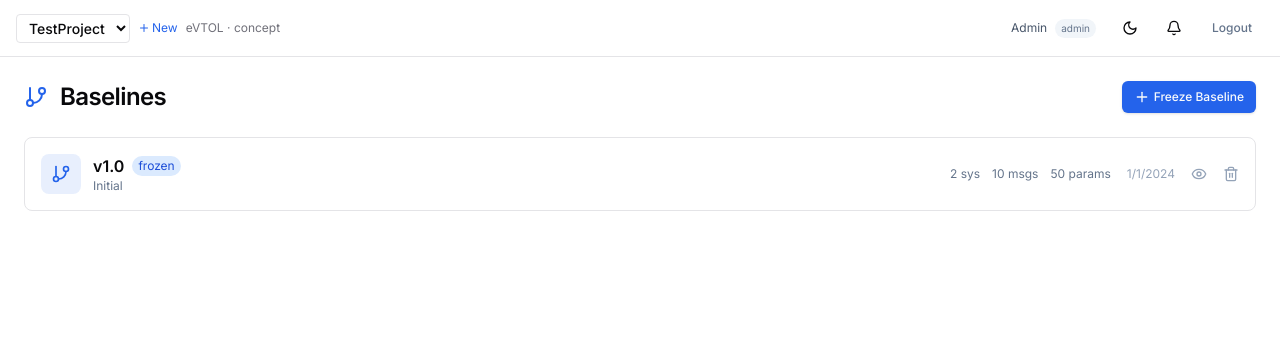
Test: Baselines Page › Freeze Baseline button toggles form
Click the button "Freeze Baseline".
click(1189, 97)  # box 1122,81 -> 1256,113
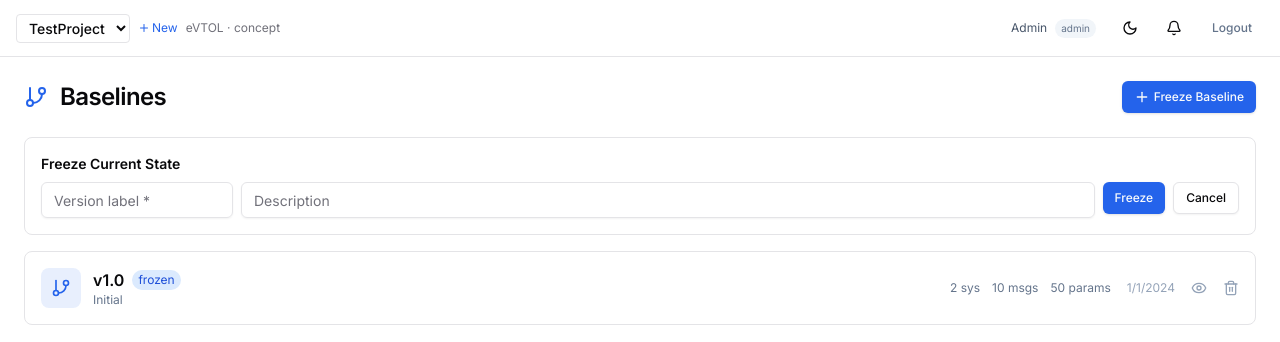
expect the field with placeholder "Version label *" is shown: met, box 41,182 -> 233,218
expect the button "Freeze" is shown: met, box 1102,182 -> 1165,214
